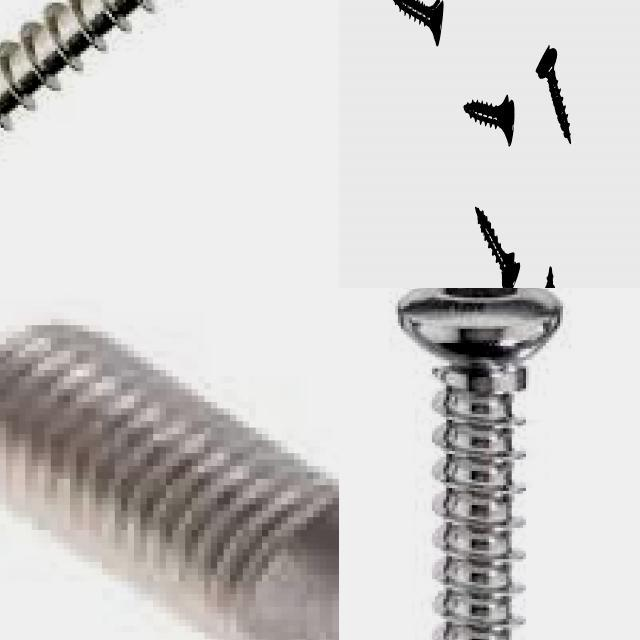Screw: (0, 325, 339, 640), (395, 288, 563, 640), (476, 206, 520, 288), (536, 44, 572, 143), (464, 94, 515, 144), (394, 0, 444, 44)
